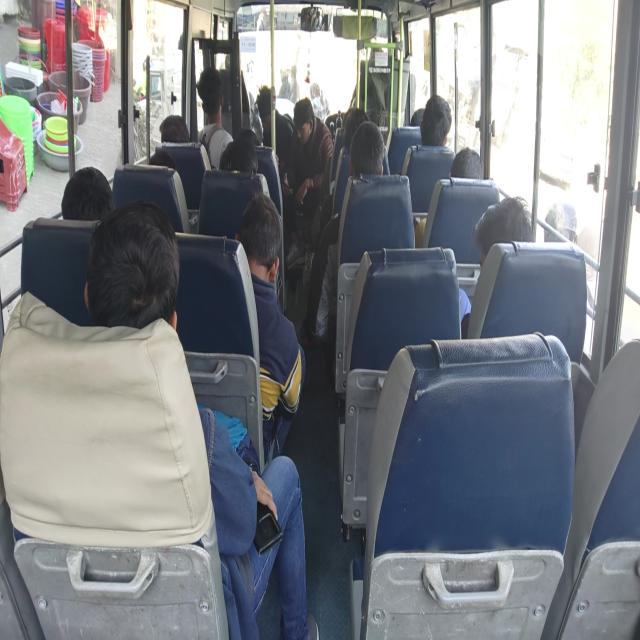person: (102, 233, 180, 325), (476, 199, 534, 260), (242, 212, 288, 288), (64, 155, 111, 225), (446, 150, 489, 200), (423, 100, 455, 158), (349, 132, 387, 180), (363, 40, 403, 83), (250, 82, 282, 130), (164, 115, 198, 159), (219, 144, 254, 178), (196, 71, 227, 108), (344, 104, 371, 140), (292, 111, 314, 146), (151, 152, 178, 180), (235, 125, 267, 148), (223, 50, 234, 70)
